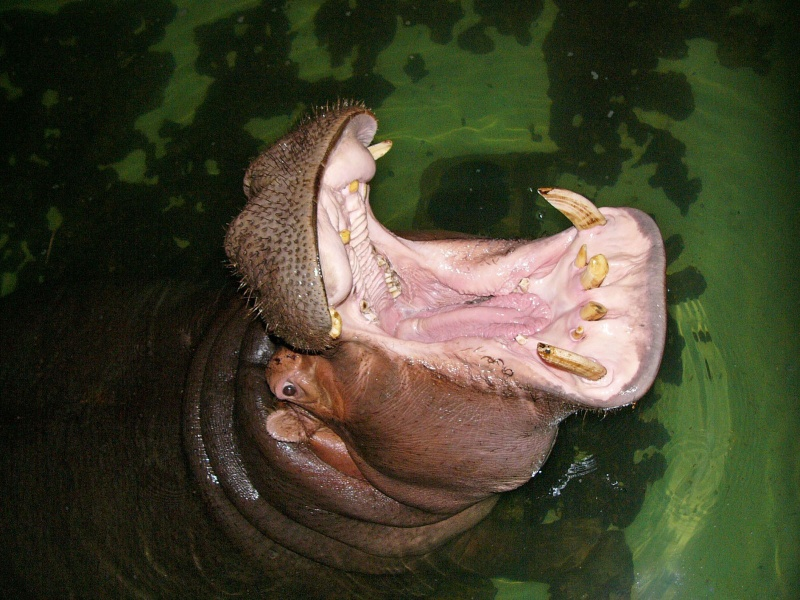hipopotamo: (205, 86, 694, 528)
